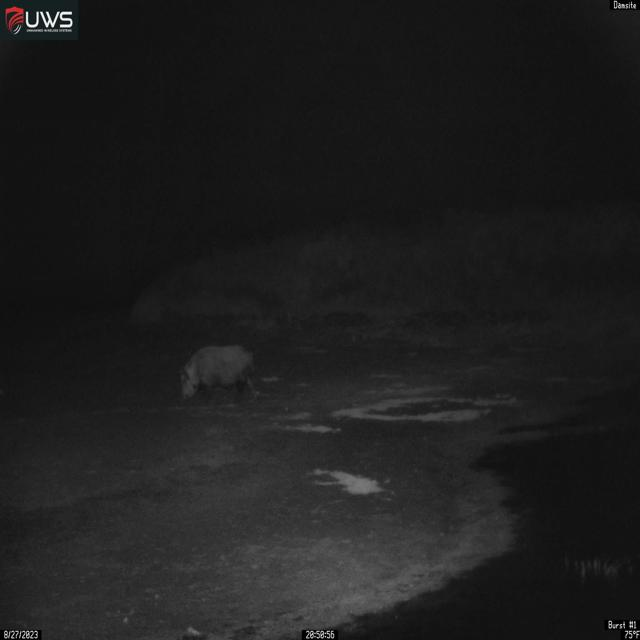pig: (178, 344, 259, 405)
